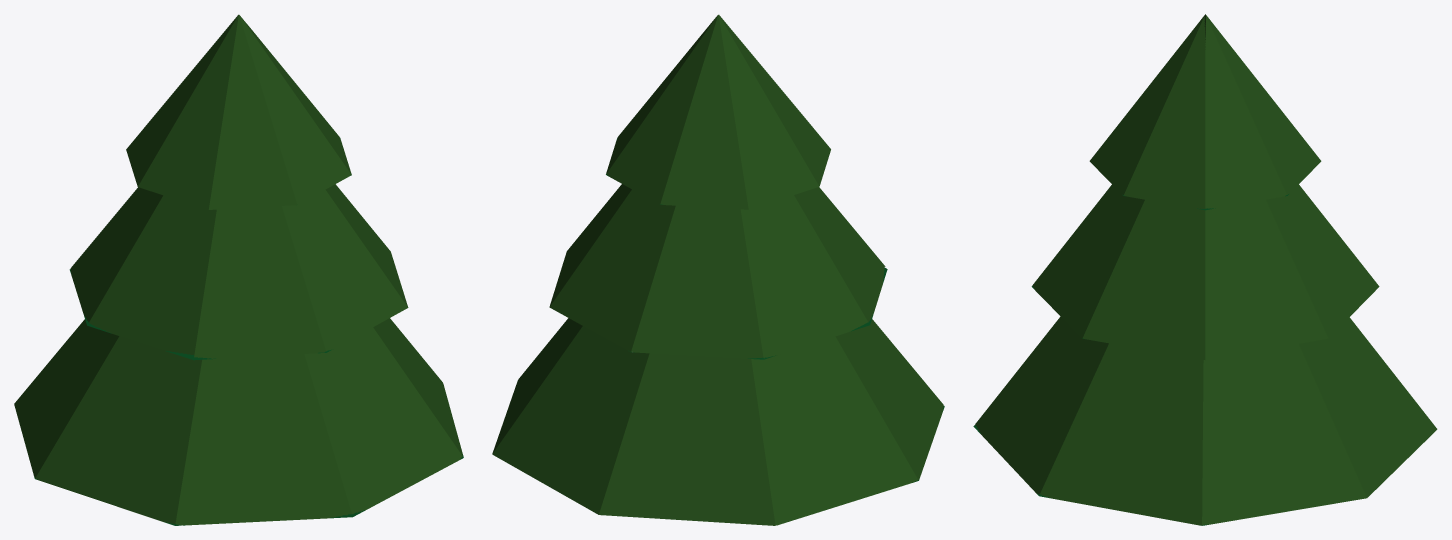
The model's file is tree_lod2.fbx.
The picture shows the model from 3 angles, left to right: view 1: azimuth 30°, elevation 25°; view 2: azimuth 150°, elevation 25°; view 3: azimuth 270°, elevation 25°; orthographic projection.
Visible parts, largest first — view 1: tree_lod2; view 2: tree_lod2; view 3: tree_lod2.
Boxes of the visible parts, x1,y1,x2,y2 form: tree_lod2: [14, 14, 463, 525]; tree_lod2: [492, 14, 944, 525]; tree_lod2: [973, 14, 1437, 525].
Size of the model in its own units: 10 by 11.45 by 10.
